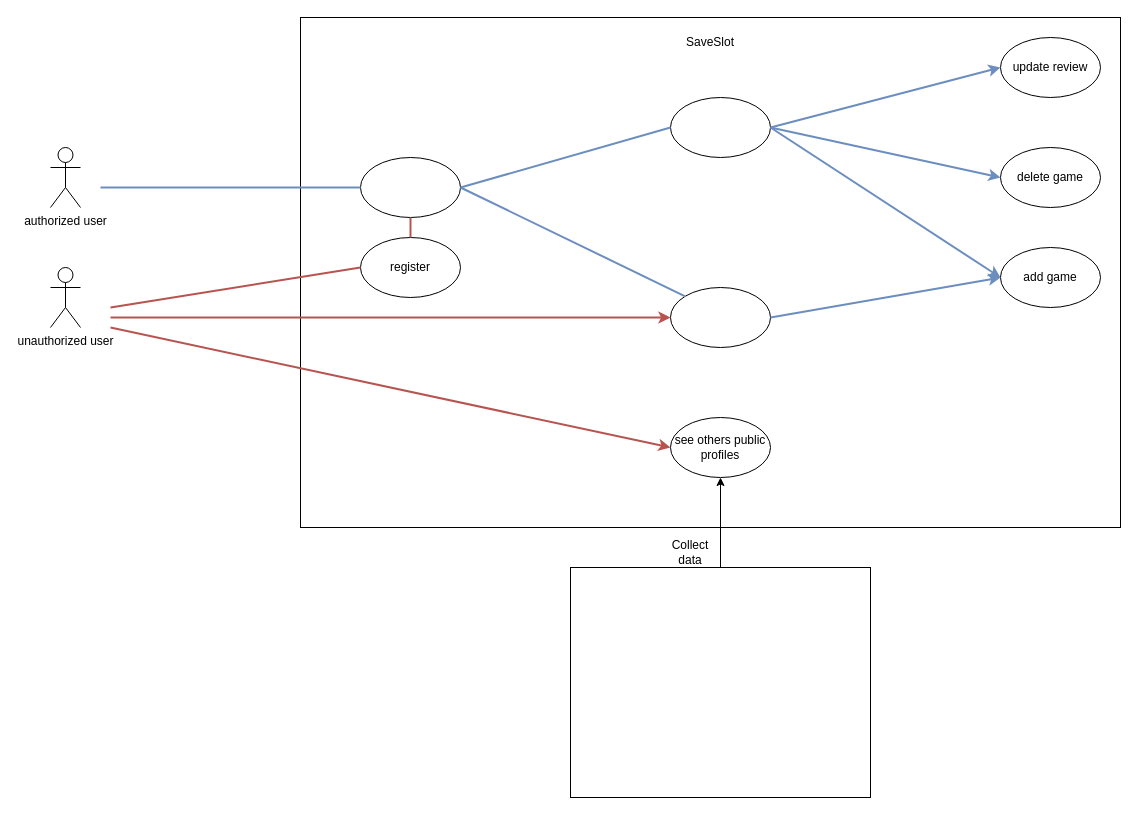
Some shapes in this 1138 by 815 pixel diagram are drawn without their labels. The shapes that lost their labels are listed below. From the top down, each one's centre as x and y in pixels, then its label:
point 720,127: see my profile
point 410,187: login
point 720,317: see game info
point 720,682: RAWG
